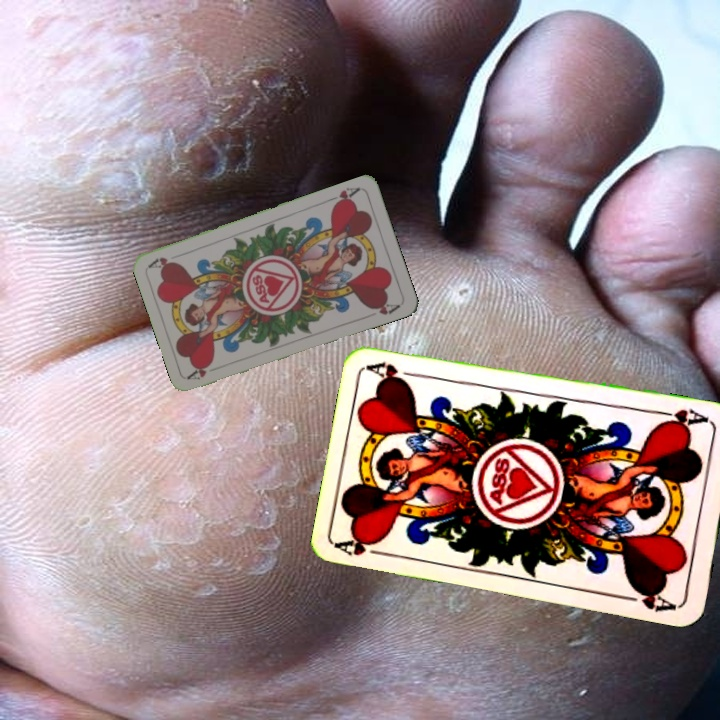HA: (335, 531, 394, 560), (652, 404, 713, 431), (323, 183, 363, 209), (185, 358, 225, 382)
